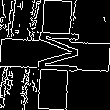M_W: (29, 31, 81, 79)
